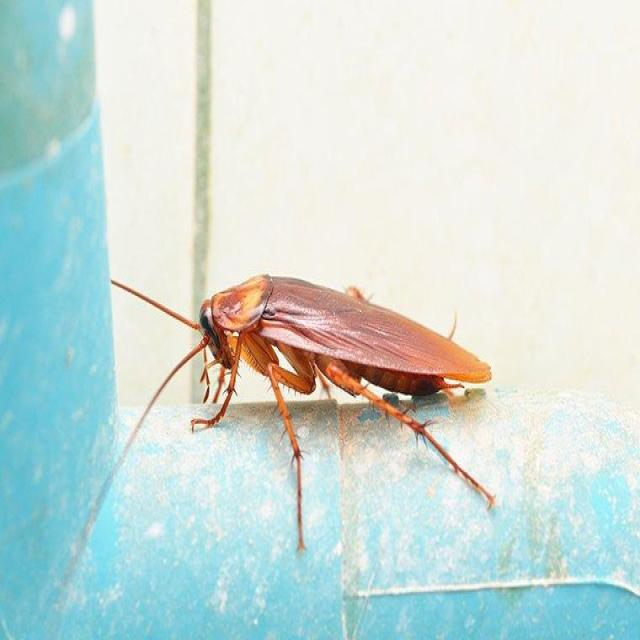Cockroach: (122, 219, 494, 532)
